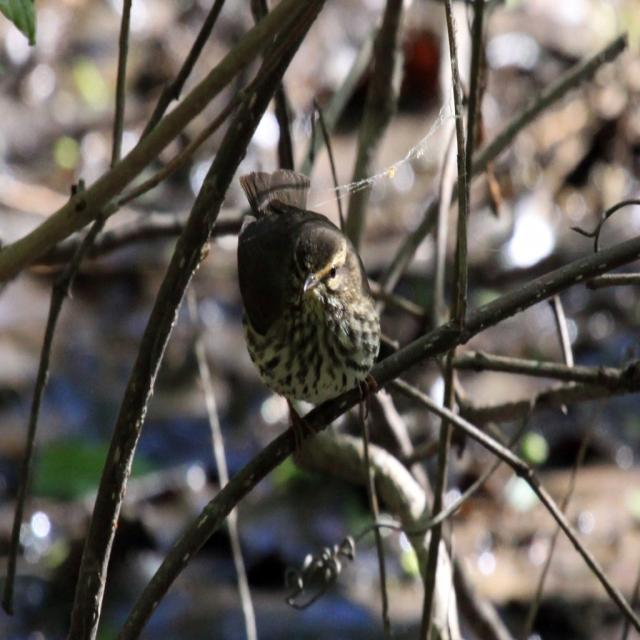bird: (229, 175, 362, 327)
